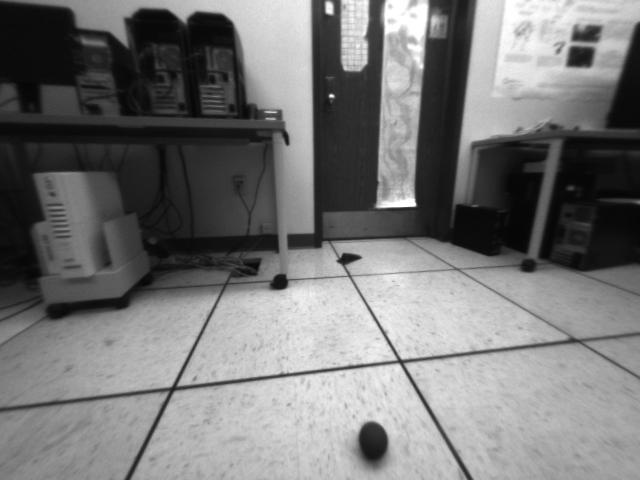dogtoy: (351, 411, 397, 469)
